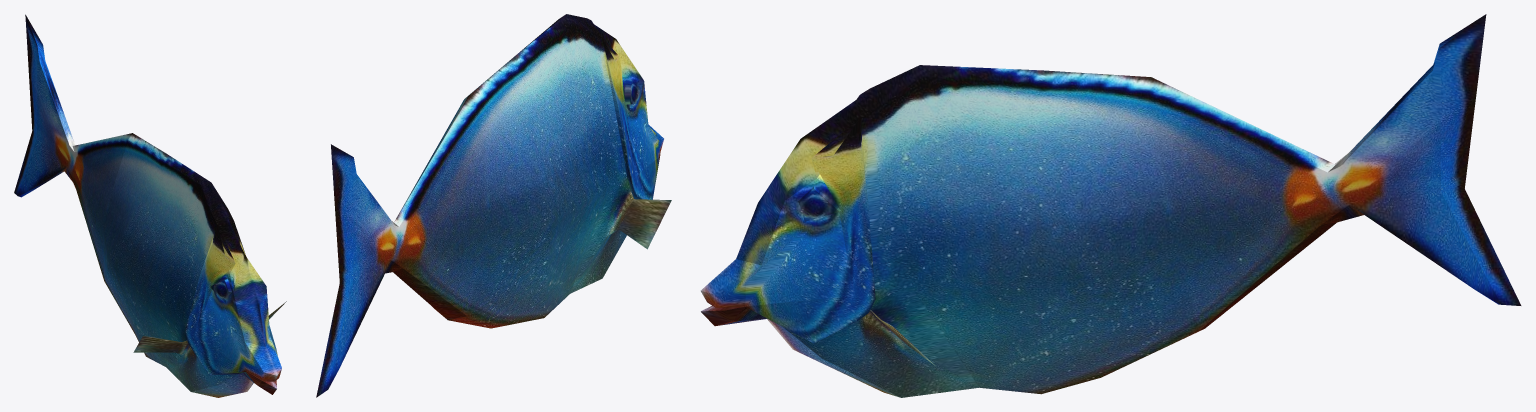
The model's file is lipsstickfish.fbx.
3 views of the same model, side by side, from view 1: azimuth 30°, elevation 25°; view 2: azimuth 150°, elevation 25°; view 3: azimuth 270°, elevation 25° (orthographic). The views are drawn at different scales.
Parts seen in each view (by area): view 1: tropicalFishMaya2008:lipstickfish:pCube1; view 2: tropicalFishMaya2008:lipstickfish:pCube1; view 3: tropicalFishMaya2008:lipstickfish:pCube1.
Part boxes in pixels (bbox=[...]): tropicalFishMaya2008:lipstickfish:pCube1: bbox=[14, 14, 286, 397]; tropicalFishMaya2008:lipstickfish:pCube1: bbox=[316, 14, 671, 397]; tropicalFishMaya2008:lipstickfish:pCube1: bbox=[700, 14, 1521, 397].
Bounding box in the file's own units: 8.37 × 13.41 × 26.35.
